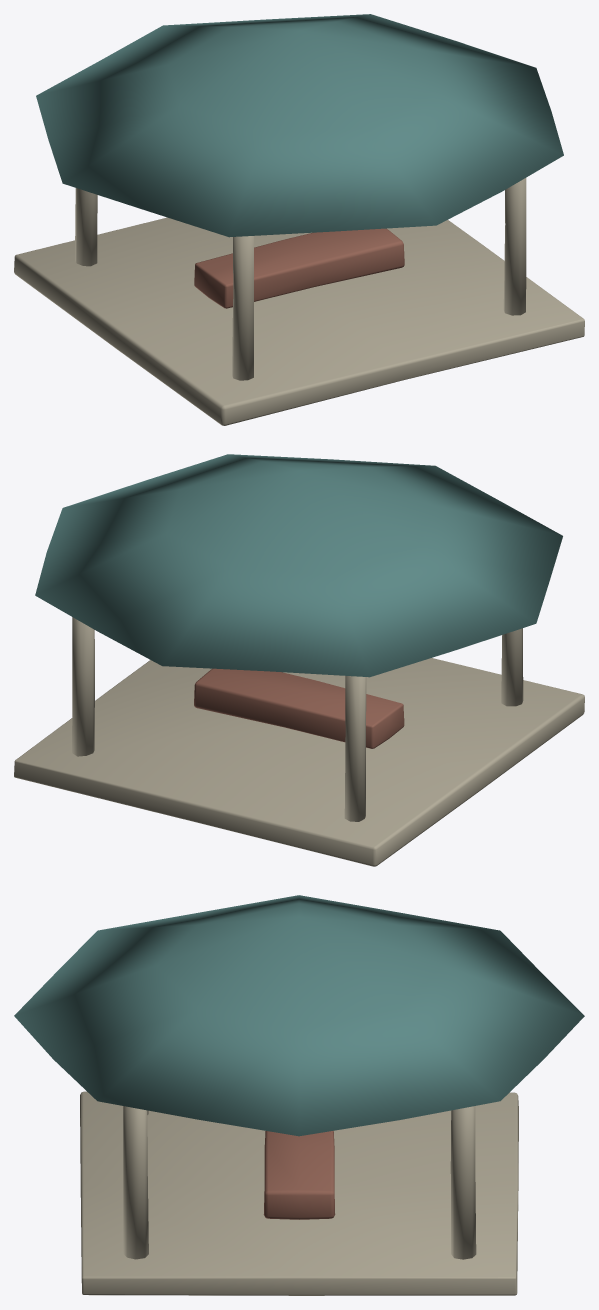
File: prop_pavilion.glb
The picture shows the model from 3 angles, top to bottom: view 1: azimuth 30°, elevation 25°; view 2: azimuth 150°, elevation 25°; view 3: azimuth 270°, elevation 25°; orthographic projection. The views are drawn at different scales.
Parts seen in each view (by area): view 1: scenery_teal, scenery_cream, scenery_coral; view 2: scenery_teal, scenery_cream, scenery_coral; view 3: scenery_teal, scenery_cream, scenery_coral.
Part boxes in pixels (<box>): scenery_teal: <box>36,14,563,237</box>; scenery_cream: <box>14,178,584,425</box>; scenery_coral: <box>194,228,404,308</box>; scenery_teal: <box>35,454,562,677</box>; scenery_cream: <box>14,617,584,866</box>; scenery_coral: <box>194,668,404,748</box>; scenery_teal: <box>14,895,584,1136</box>; scenery_cream: <box>80,1091,518,1295</box>; scenery_coral: <box>263,1131,335,1219</box>.
Size of the model in its own units: 10.4 by 5.8 by 10.4.
